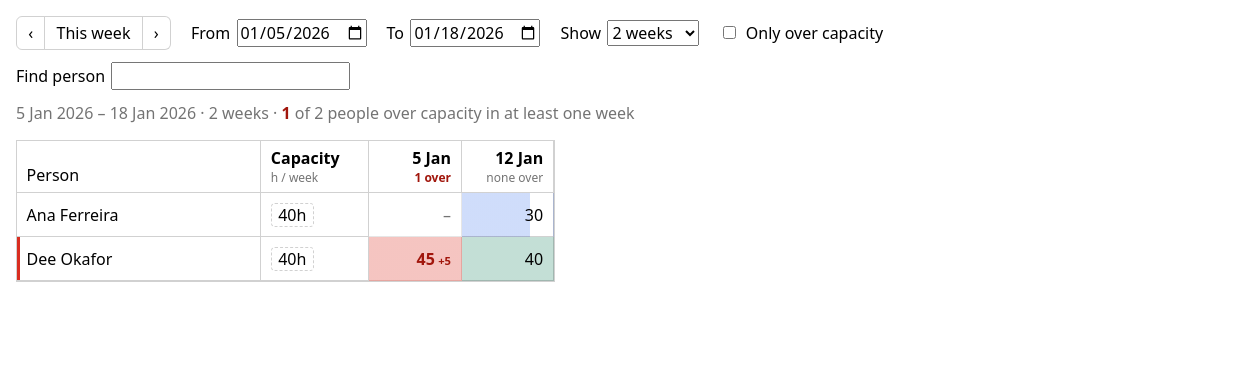
what a failed save says › says "Not saved" when our API refused it, and does not send it again
expect the column heading "Dee Okafor" is shown: met, box [17,237,261,281]
Click the button named "Weekly hours for Dee Okafor" at point(292, 259), box [271,247,314,271]
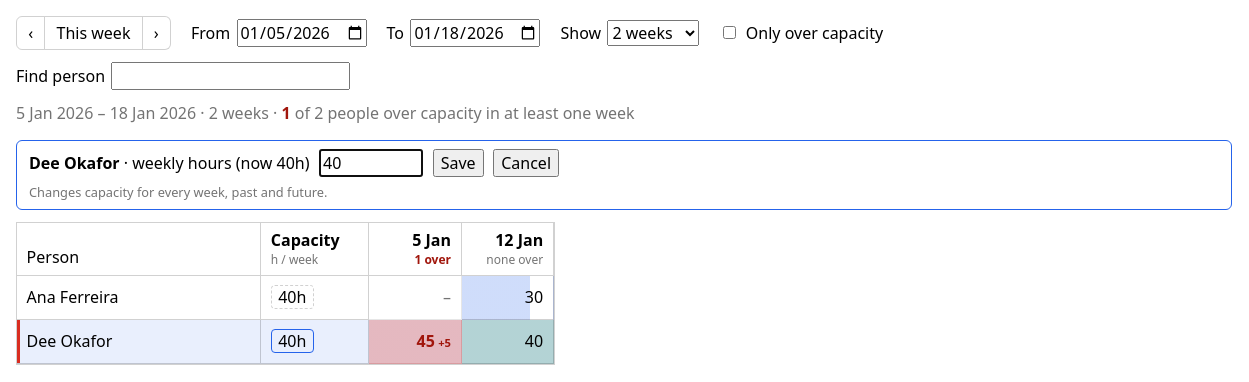
Replace the text in the field named "Weekly hours for Dee Okafor" with "50" at point(371, 163), box [319,149,423,177]
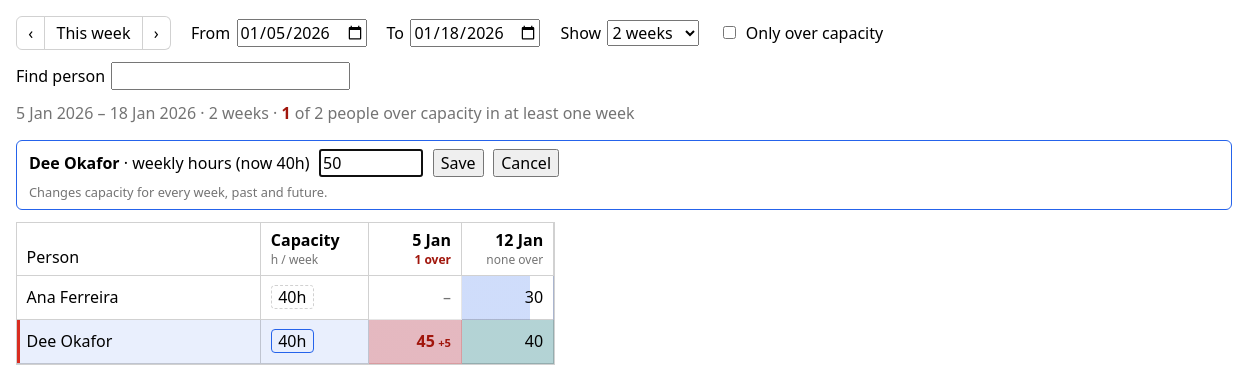
Submit the form named "Weekly hours for Dee Okafor", box [16,140,1232,210]
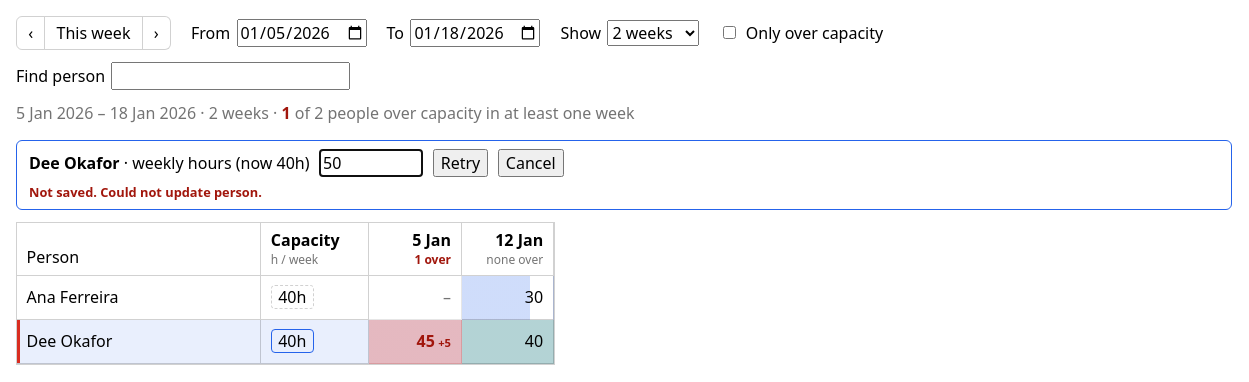
expect the message shows "Not saved. Could not update person": met, box [29,183,262,201]
